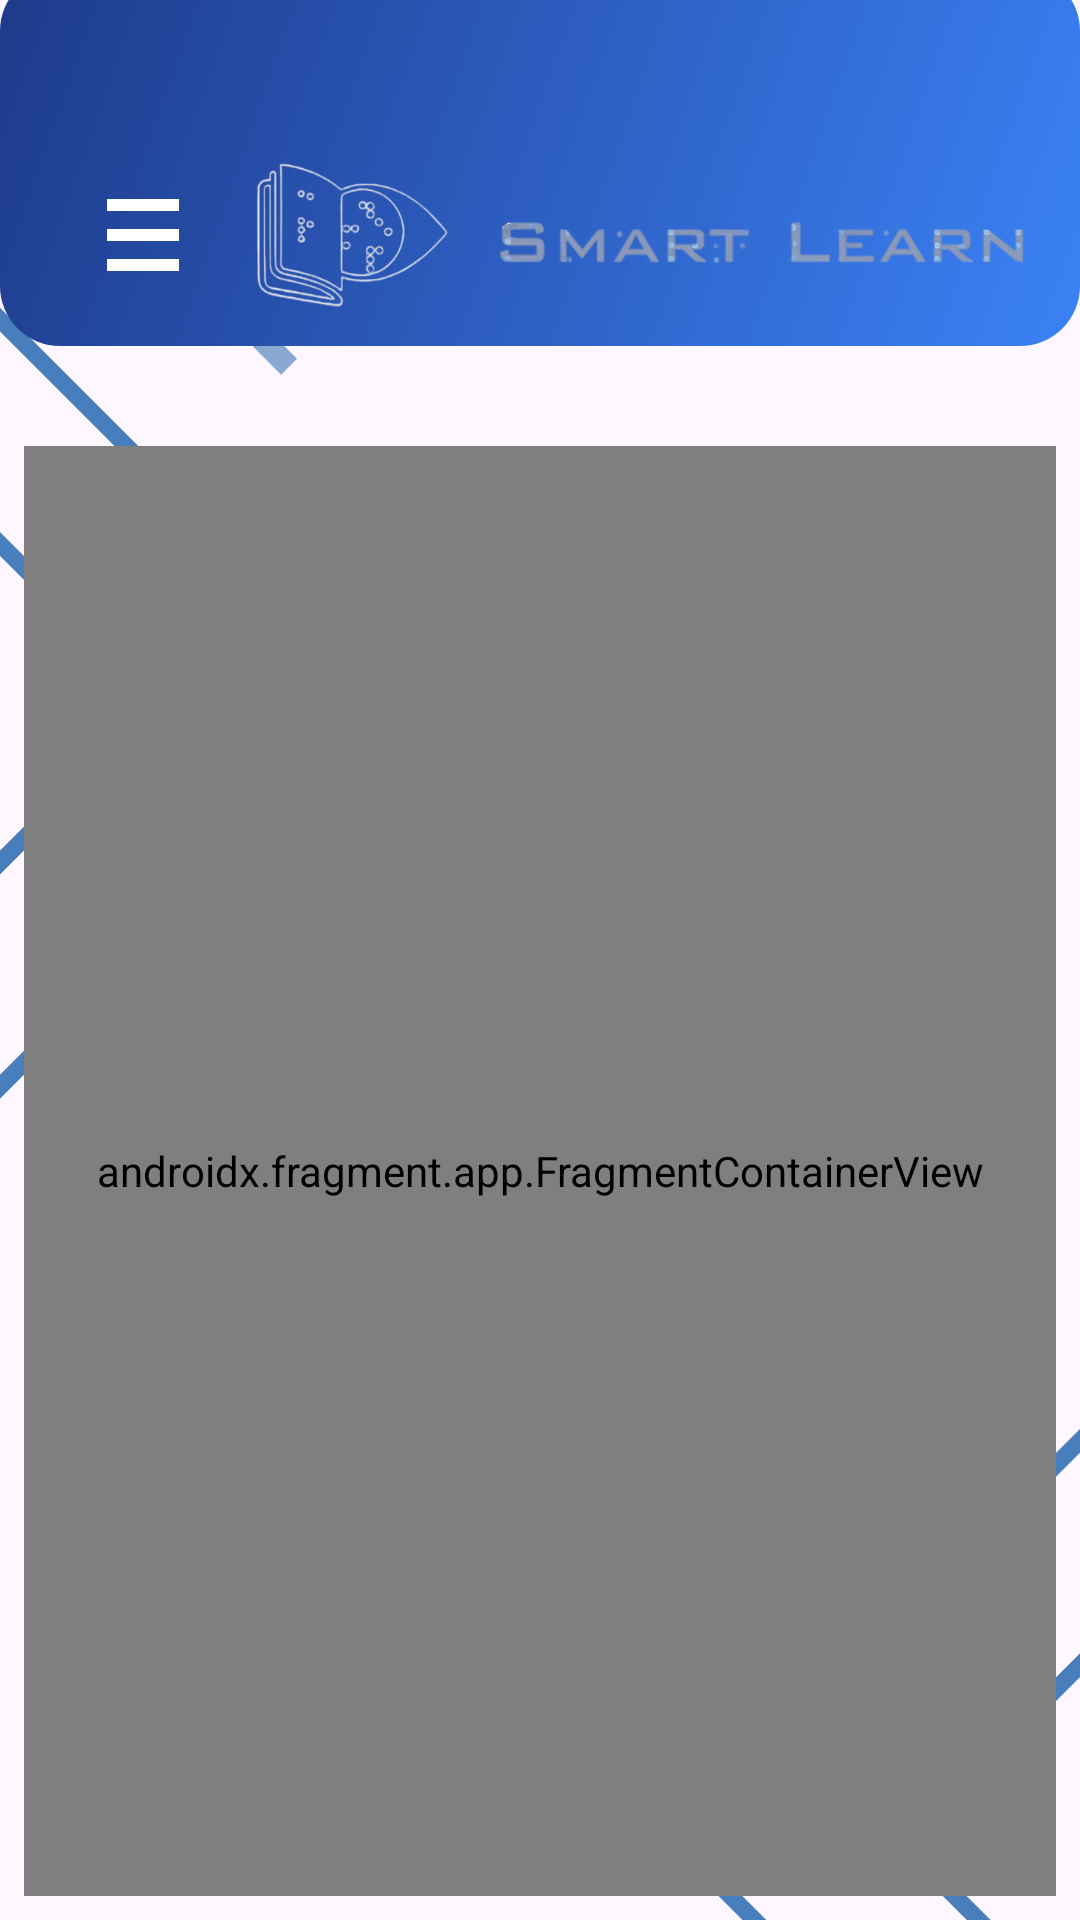

Icon click points for this 1080px x 1920px phone screenshot, format point (x, y):
Desplegar Menú: point (143, 235)
